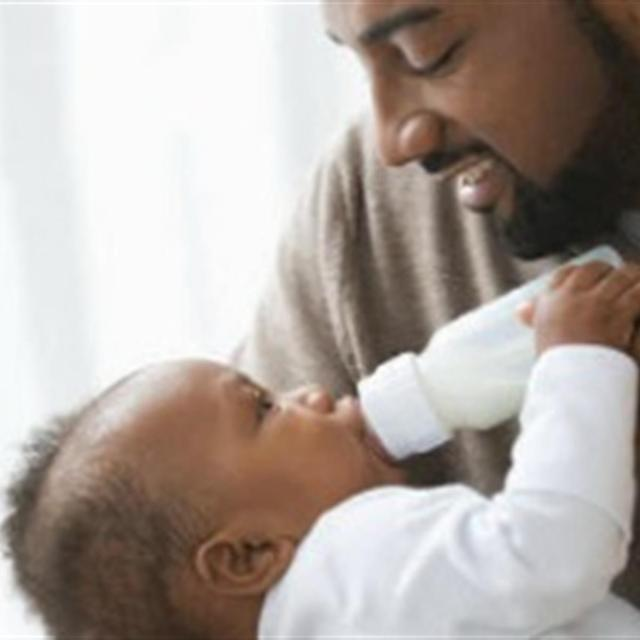non-dog: (2, 249, 640, 640), (246, 2, 640, 601)
